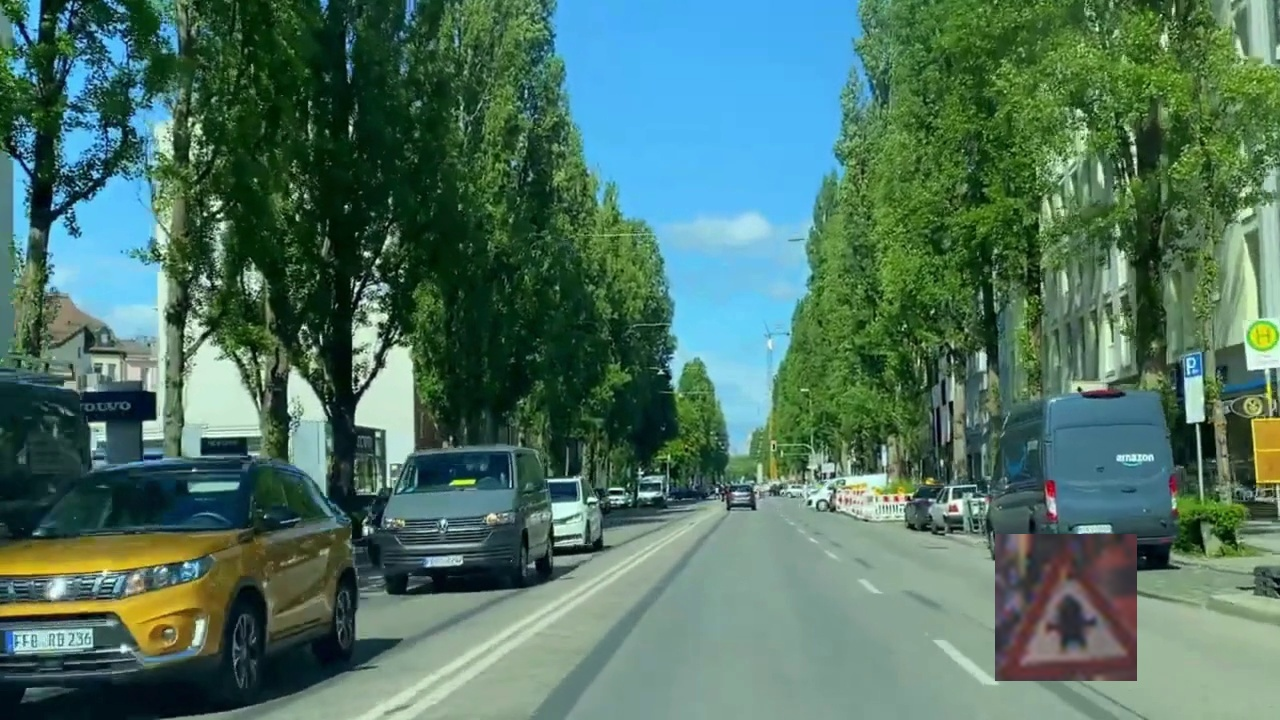Right-of-way: (995, 534, 1137, 681)
